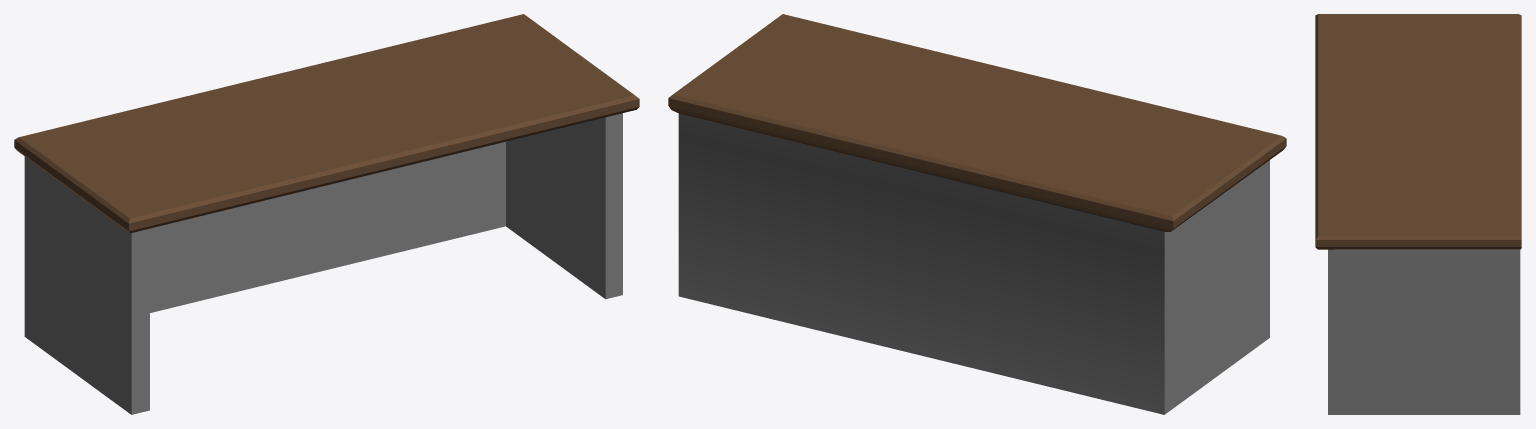
File: Desk.fbx
The picture shows the model from 3 angles, left to right: view 1: azimuth 30°, elevation 25°; view 2: azimuth 150°, elevation 25°; view 3: azimuth 270°, elevation 25°; orthographic projection. The views are drawn at different scales.
Parts seen in each view (by area): view 1: Desk; view 2: Desk; view 3: Desk.
Boxes of the visible parts, box(x1,y1,x2,y2) form: Desk: box(14, 14, 639, 414); Desk: box(668, 14, 1286, 414); Desk: box(1315, 14, 1521, 414).
Size of the model in its own units: 257 by 97.16 by 99.89.
